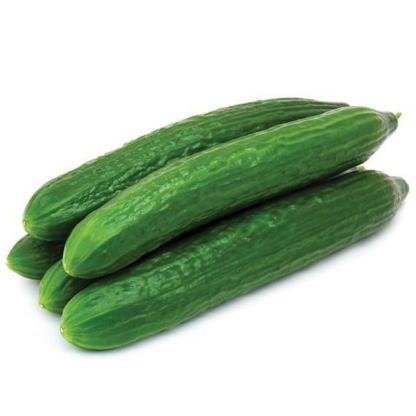--: (45, 176, 416, 344), (44, 88, 396, 264)
